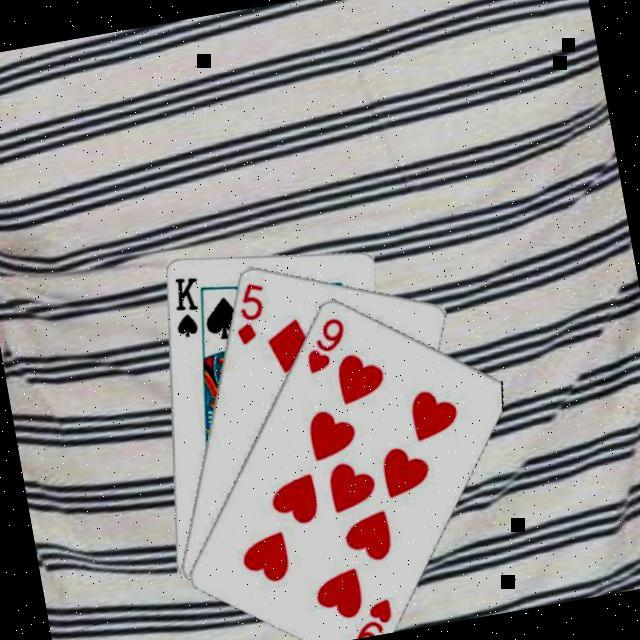5D: (224, 276, 275, 348)
9H: (296, 312, 353, 376), (343, 592, 396, 640)
KS: (163, 269, 208, 340)
